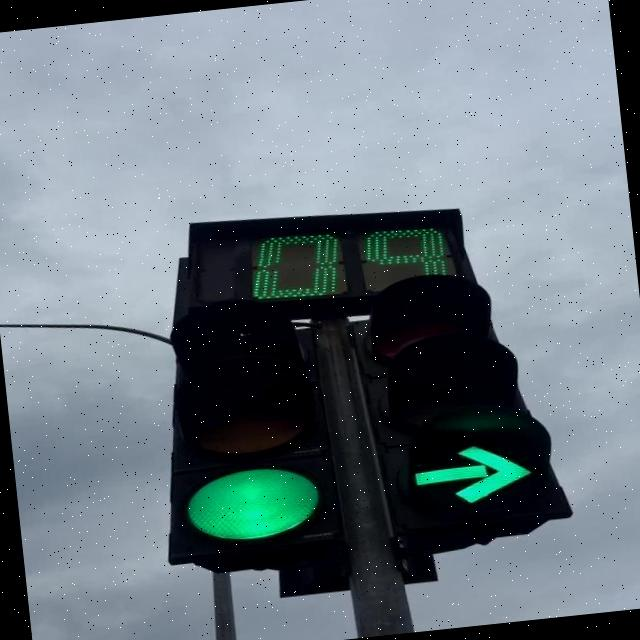green_light: (364, 263, 576, 541), (139, 290, 346, 566)
